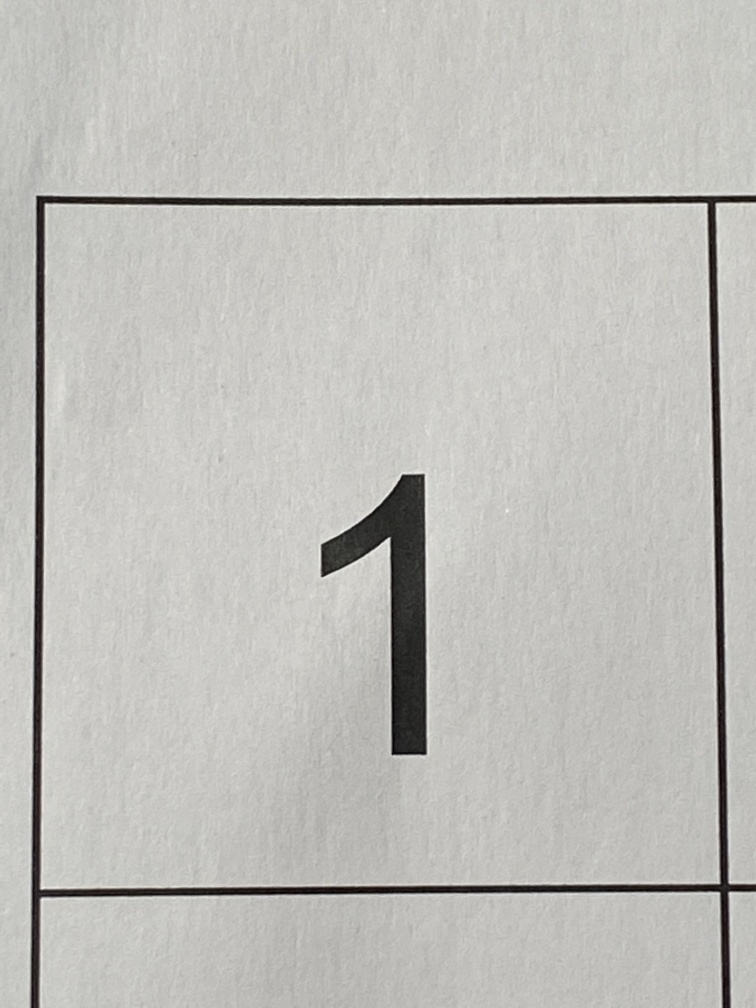one: (285, 433, 513, 816)
